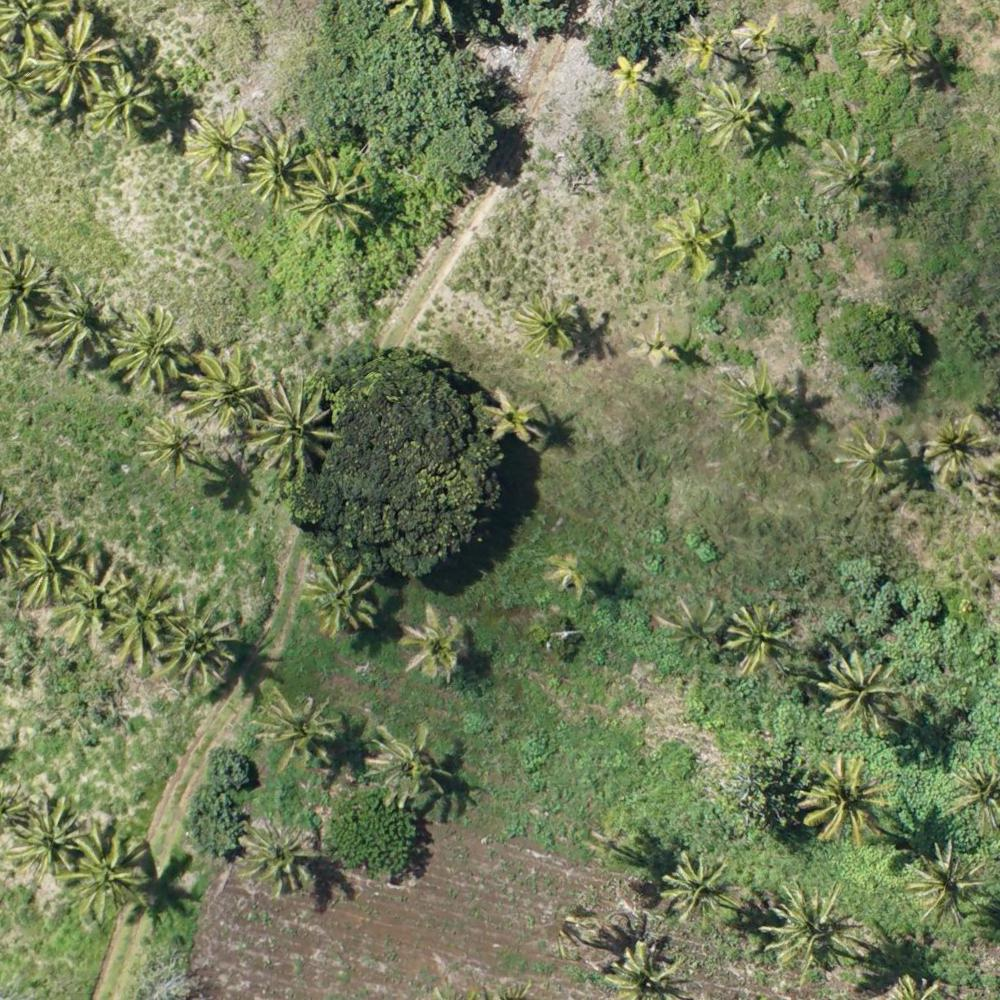Palm: (764, 875, 848, 975), (250, 379, 338, 472), (805, 751, 890, 842), (8, 794, 87, 890), (158, 593, 240, 684), (33, 16, 115, 102), (40, 278, 118, 368), (366, 721, 448, 806), (114, 308, 196, 393), (70, 830, 150, 916), (822, 650, 901, 734), (239, 812, 317, 896), (51, 551, 123, 642), (259, 686, 338, 766), (106, 568, 174, 660), (907, 846, 984, 924), (180, 352, 259, 427), (299, 156, 373, 234), (15, 523, 85, 604), (302, 558, 378, 631), (662, 848, 732, 924), (185, 107, 255, 181), (655, 199, 723, 274), (728, 600, 796, 674), (720, 367, 795, 434), (701, 85, 773, 154), (814, 138, 890, 202), (399, 607, 469, 675), (602, 940, 680, 1000), (245, 131, 311, 201), (923, 414, 990, 482), (862, 12, 931, 77), (93, 62, 157, 126), (836, 425, 904, 485), (512, 295, 584, 351), (141, 411, 202, 476), (483, 391, 539, 445), (672, 15, 724, 66), (613, 55, 658, 95)
